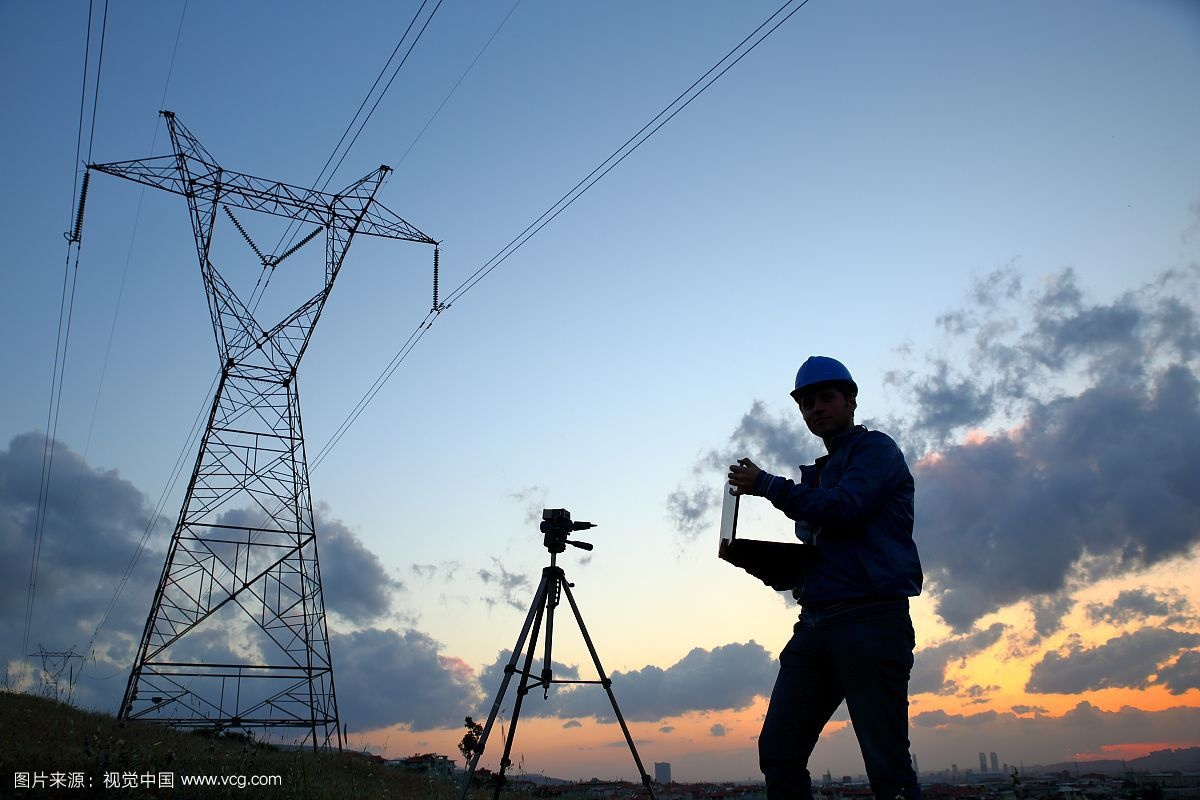blue: (793, 354, 859, 436)
